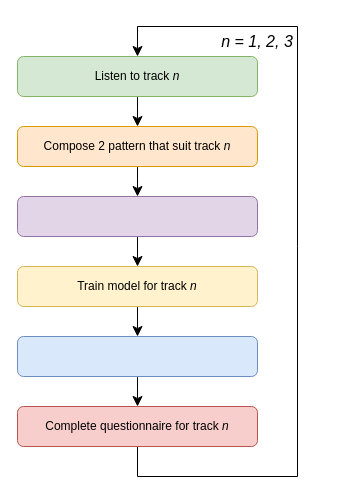
This 340x504 diagram has some shape labels left out. Each missing label, with the centre of its shape:
Improvise over track n: point (137, 356)
Record patterns for track n: point (137, 216)
